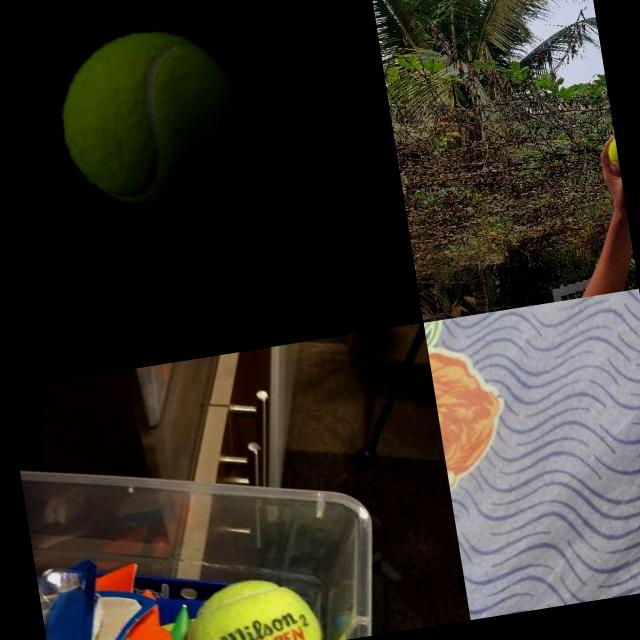Tennis Ball: (50, 20, 251, 218), (175, 568, 325, 640), (605, 136, 619, 172)
